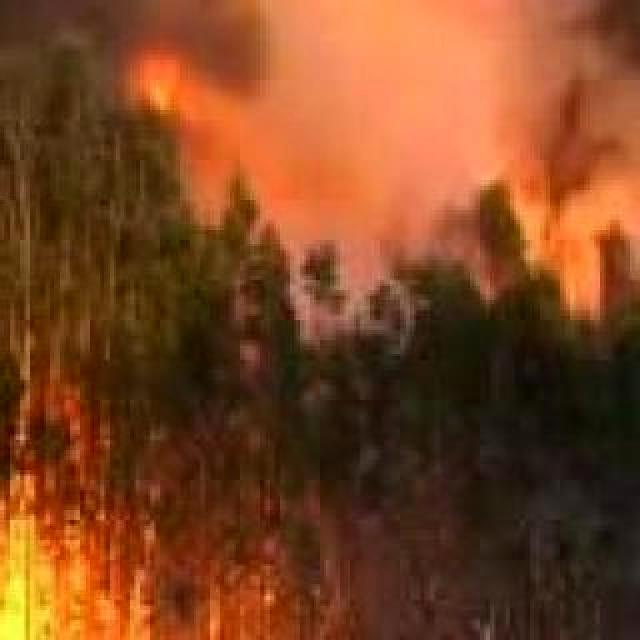fire: (0, 514, 332, 640), (494, 170, 618, 272), (120, 18, 212, 128)
